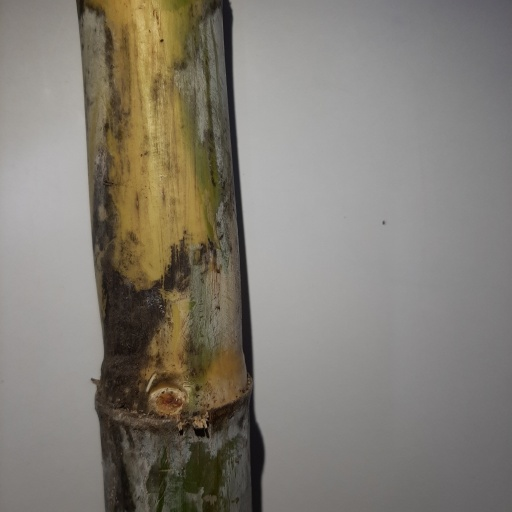Damage_Bud: (146, 386, 185, 415)
